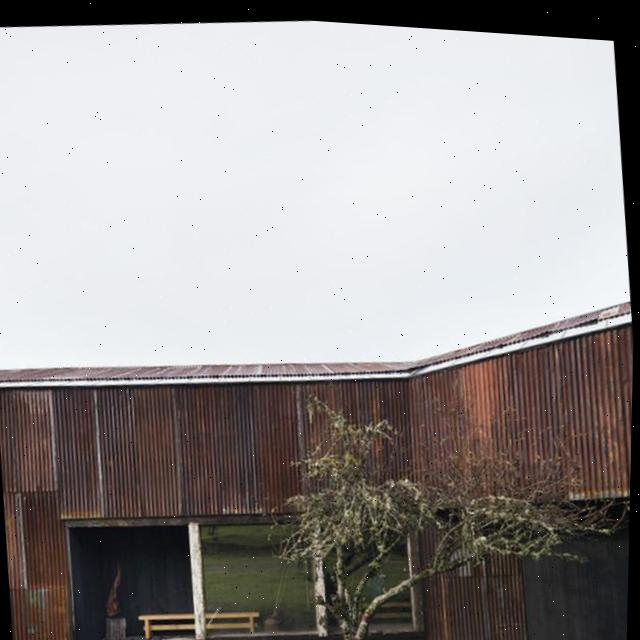building: (0, 301, 633, 640)
